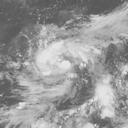cyclone: (29, 26, 108, 105)
